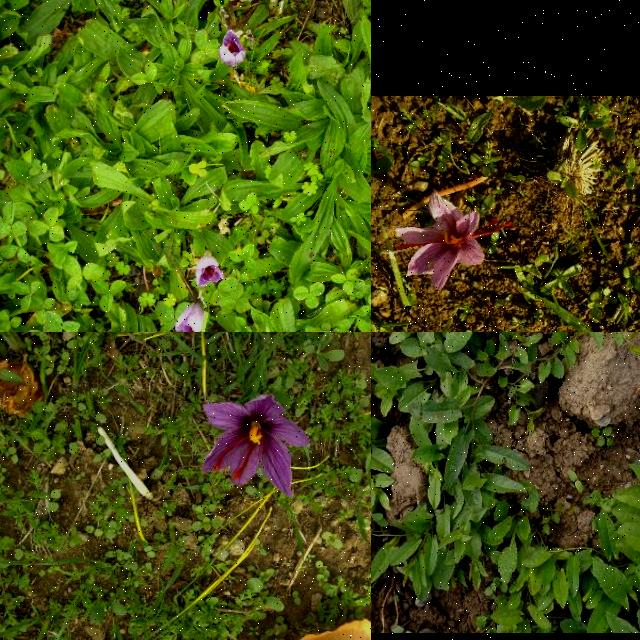flower: (396, 194, 514, 292), (200, 394, 310, 498), (194, 254, 226, 288), (219, 30, 247, 68), (173, 302, 204, 332)
